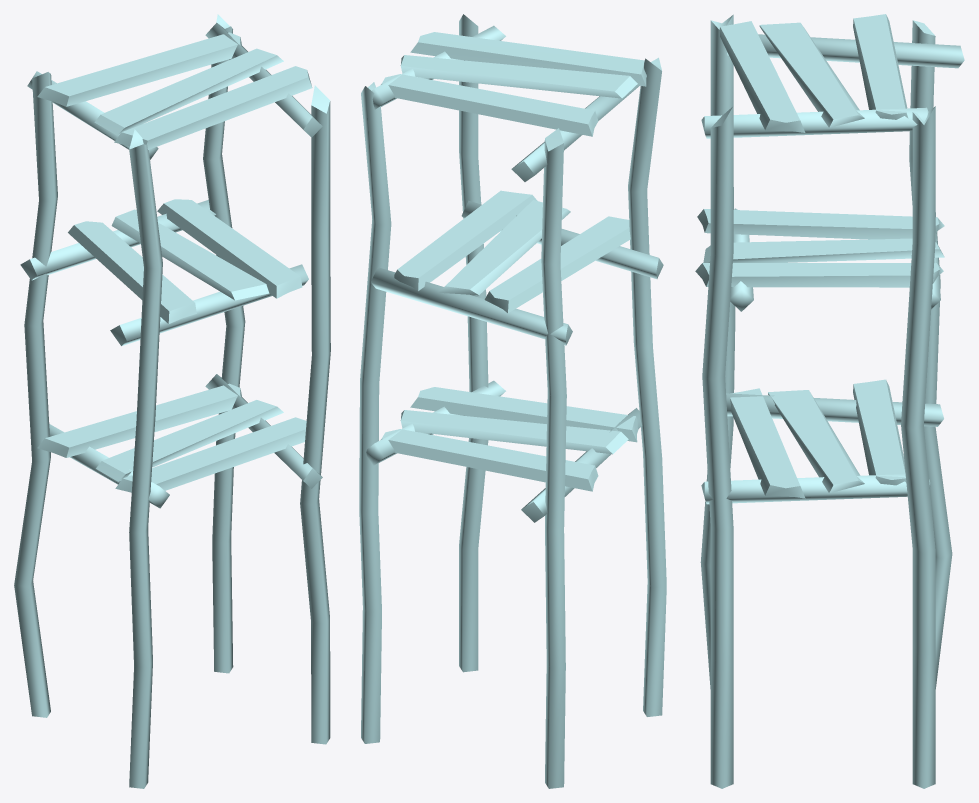
3 views of the same model, side by side, from view 1: azimuth 30°, elevation 25°; view 2: azimuth 150°, elevation 25°; view 3: azimuth 270°, elevation 25° (orthographic). The views are drawn at different scales.
Visible parts, largest first — view 1: Object27; view 2: Object27; view 3: Object27.
Part boxes in pixels (box(x1,y1,x2,y2)): Object27: box(14, 14, 330, 788); Object27: box(359, 14, 666, 788); Object27: box(695, 14, 964, 788).
Size of the model in its own units: 168 by 474 by 171.
